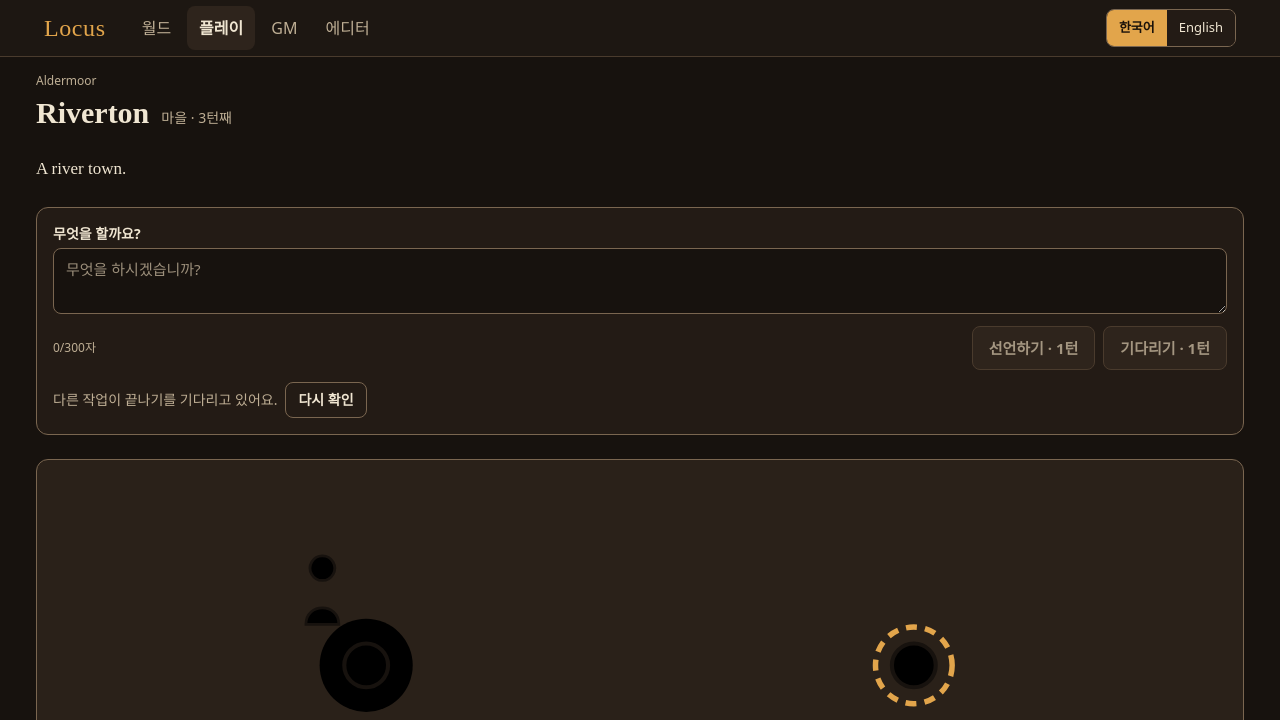
Test: TP-V4-11: closed, empty, the GM at work › code review 01 #1: a hold with no run of ours says so, and past the cap offers [check again]
Expected: the element with test id "turn-held" shows "다른 작업이 끝나기를 기다리고 있어요.", [53, 390, 277, 409]
Click the button with test id "held-recheck".
click(326, 400)  # box [285, 382, 367, 418]
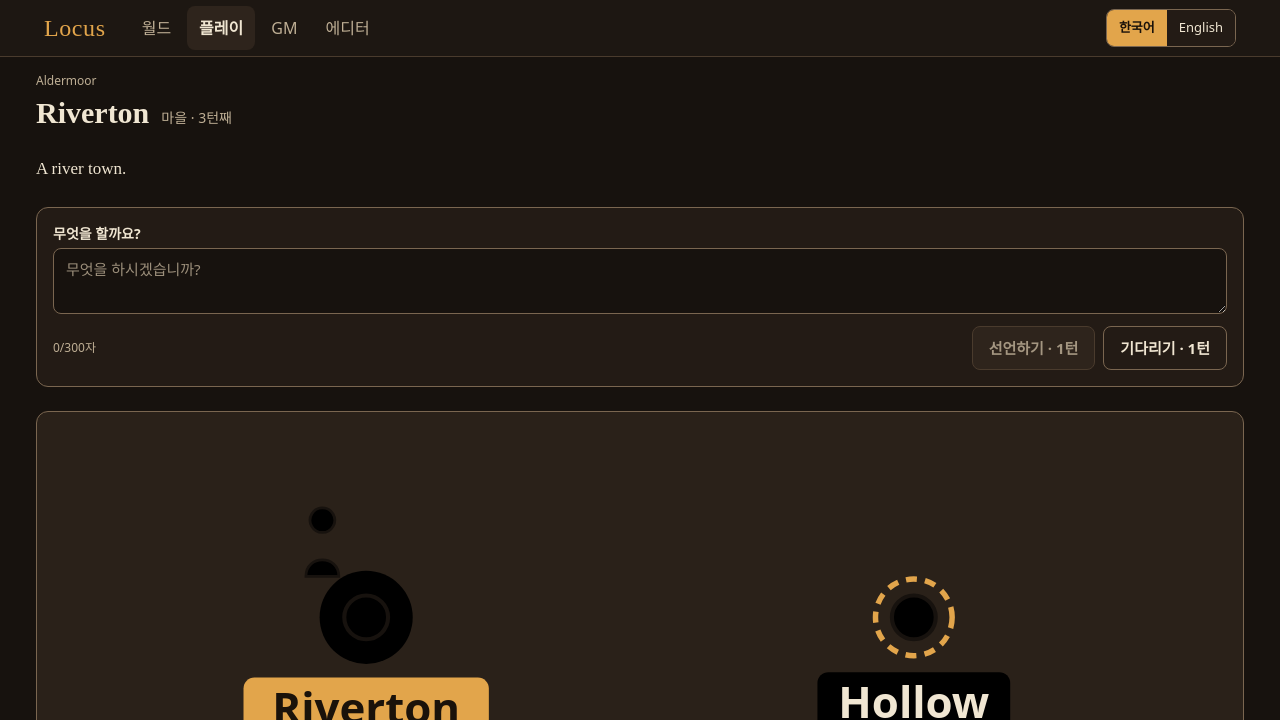
Expected: the element with test id "turn-held" is gone
